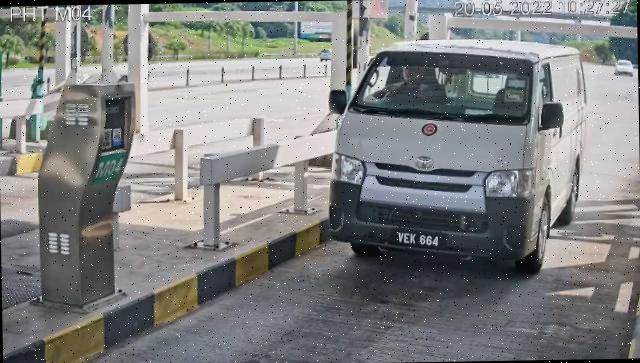License_Plate: (391, 225, 450, 254)
van: (327, 38, 590, 277)
